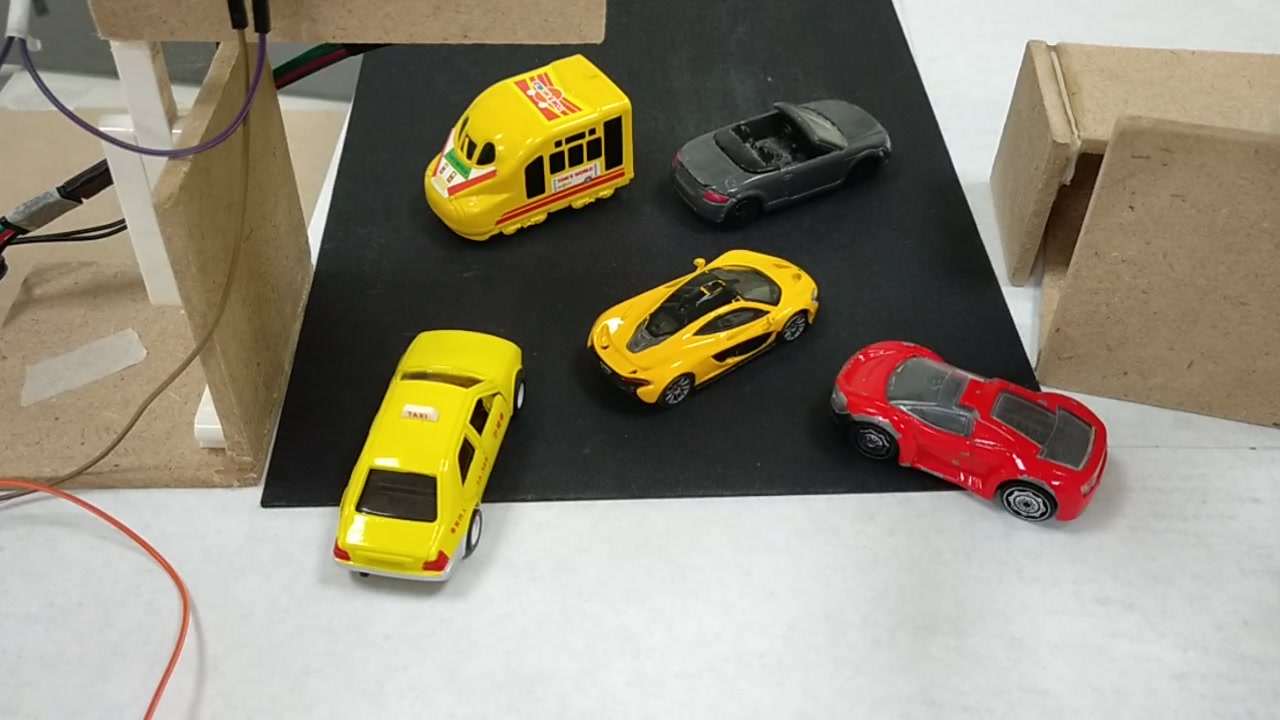car: (823, 333, 1109, 538), (330, 344, 524, 587), (591, 256, 808, 399), (665, 96, 888, 213)
